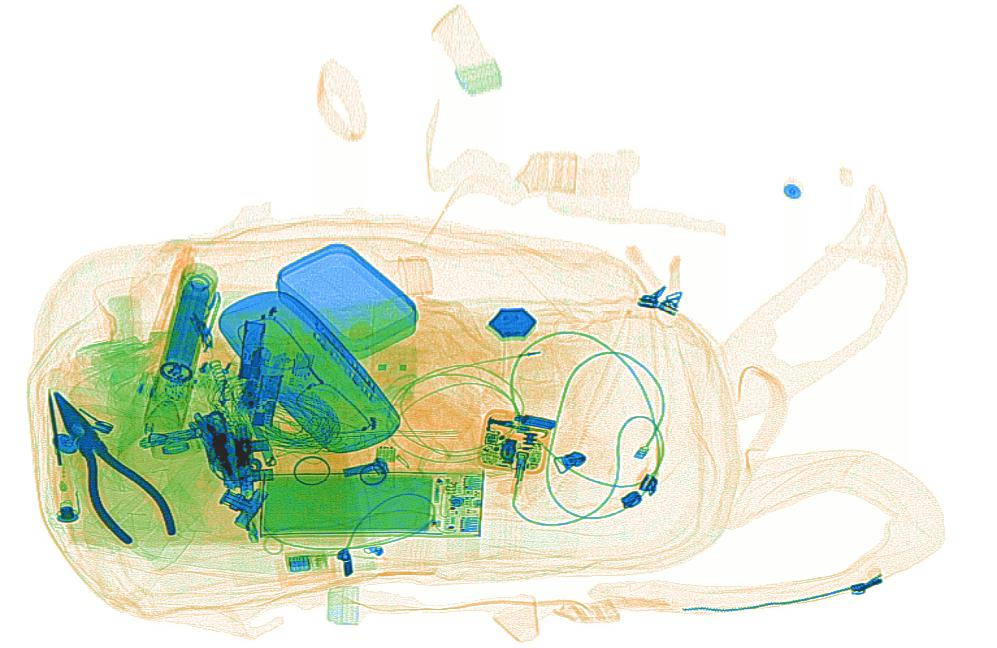USBFlashDisk: (281, 353, 316, 421)
battery: (162, 276, 210, 367)
